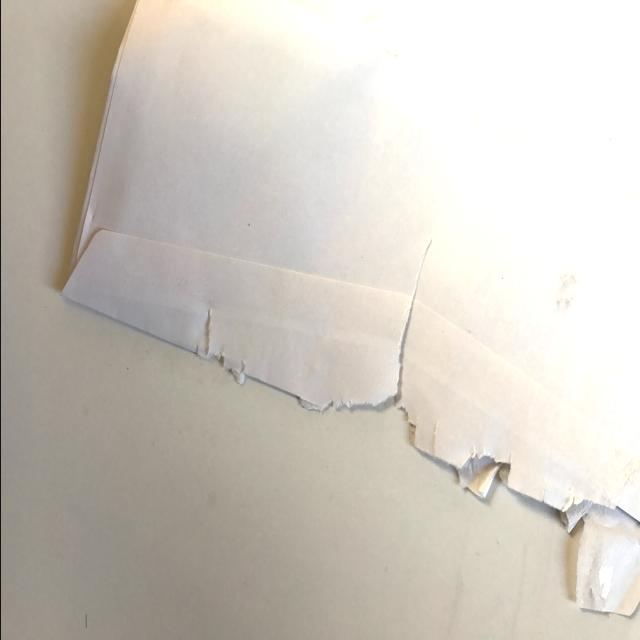Paper: (60, 0, 640, 612)
